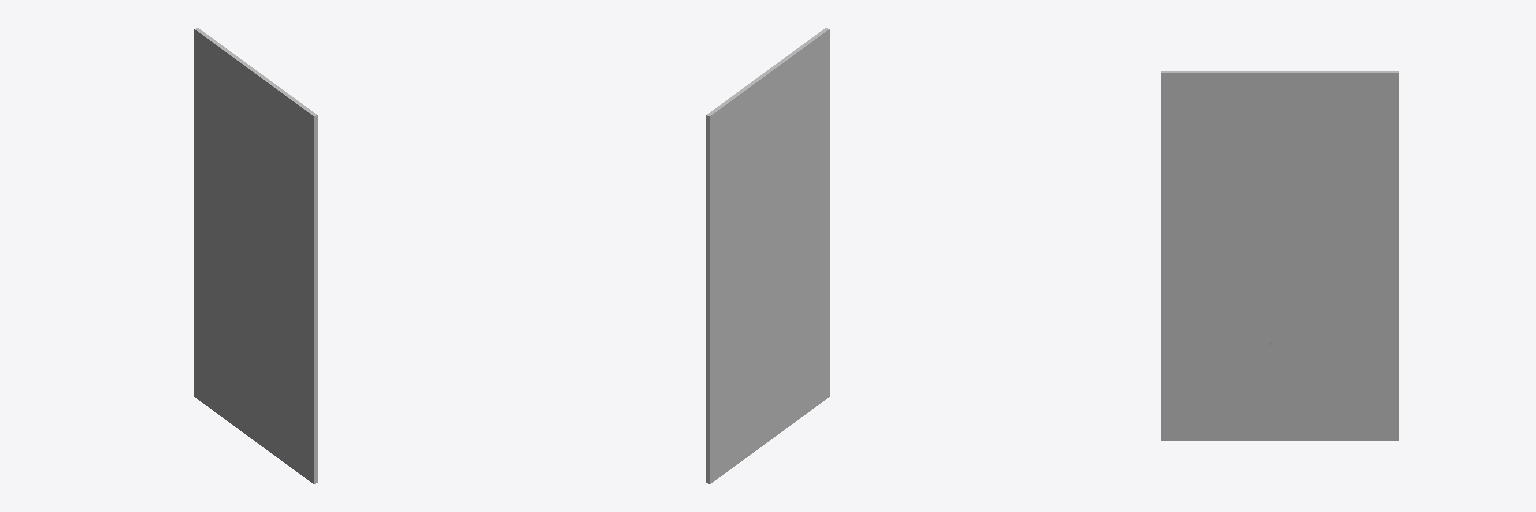
3 renders of one model, left to right at view 1: azimuth 30°, elevation 25°; view 2: azimuth 150°, elevation 25°; view 3: azimuth 270°, elevation 25°, orthographic.
Visible parts, largest first — view 1: back9_zoetrope.464; view 2: back9_zoetrope.464; view 3: back9_zoetrope.464.
Boxes of the visible parts, x1,y1,x2,y2 form: back9_zoetrope.464: [194, 28, 317, 483]; back9_zoetrope.464: [706, 28, 829, 483]; back9_zoetrope.464: [1161, 71, 1398, 440].
Bounding box in the file's own units: 0.0109 × 0.9246 × 0.5439.